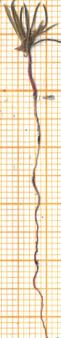flower: (2, 0, 61, 57)
root: (31, 95, 50, 338)
stem: (24, 57, 41, 98)
